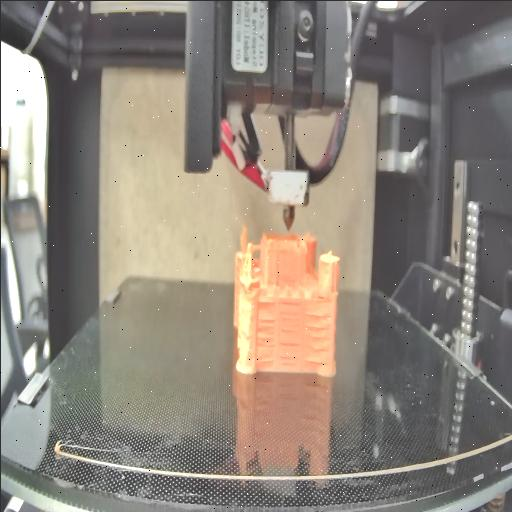cracks: (303, 308, 330, 362), (254, 316, 274, 360), (279, 296, 299, 332), (280, 341, 298, 365), (312, 292, 326, 302), (256, 297, 272, 304)
